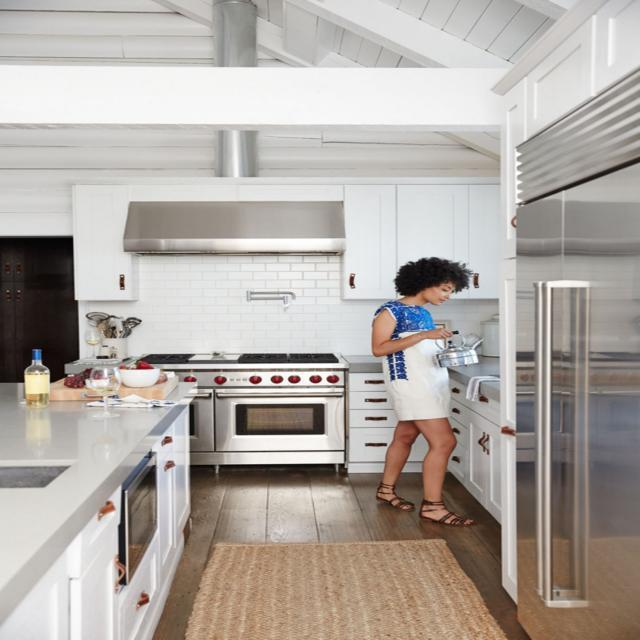walking: (345, 246, 501, 538)
